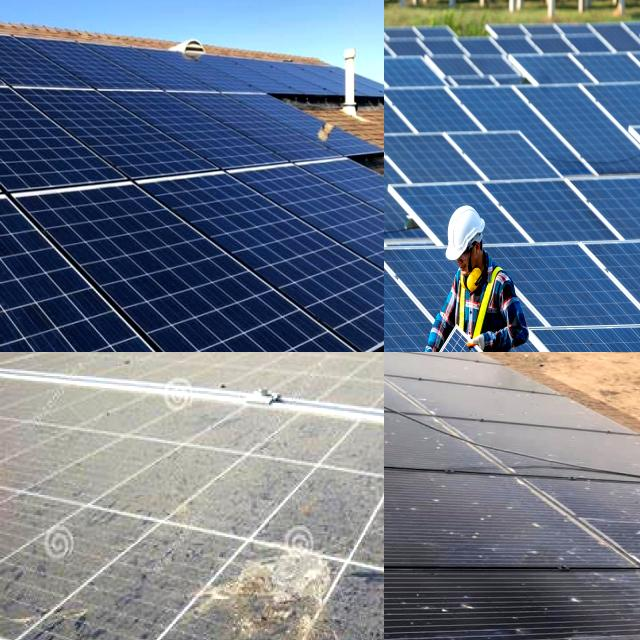bird: (178, 533, 384, 640), (415, 481, 607, 569), (384, 450, 456, 547), (537, 584, 640, 640)
crack: (0, 172, 377, 352), (139, 156, 384, 352), (0, 191, 239, 352), (15, 66, 220, 206), (99, 69, 280, 187), (0, 77, 127, 227), (0, 67, 125, 202), (184, 80, 338, 174), (14, 19, 173, 109), (0, 0, 95, 119), (384, 236, 480, 352), (384, 244, 483, 352), (384, 235, 470, 352), (0, 9, 101, 106), (384, 173, 463, 274), (384, 187, 460, 267)
